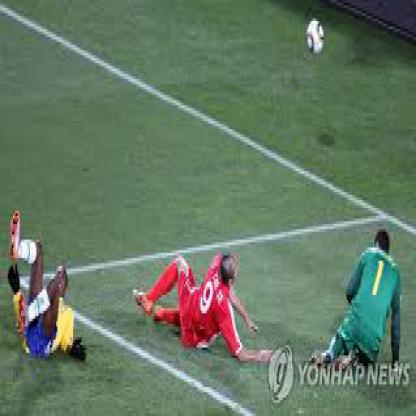Fall_Down: (132, 250, 284, 363)
